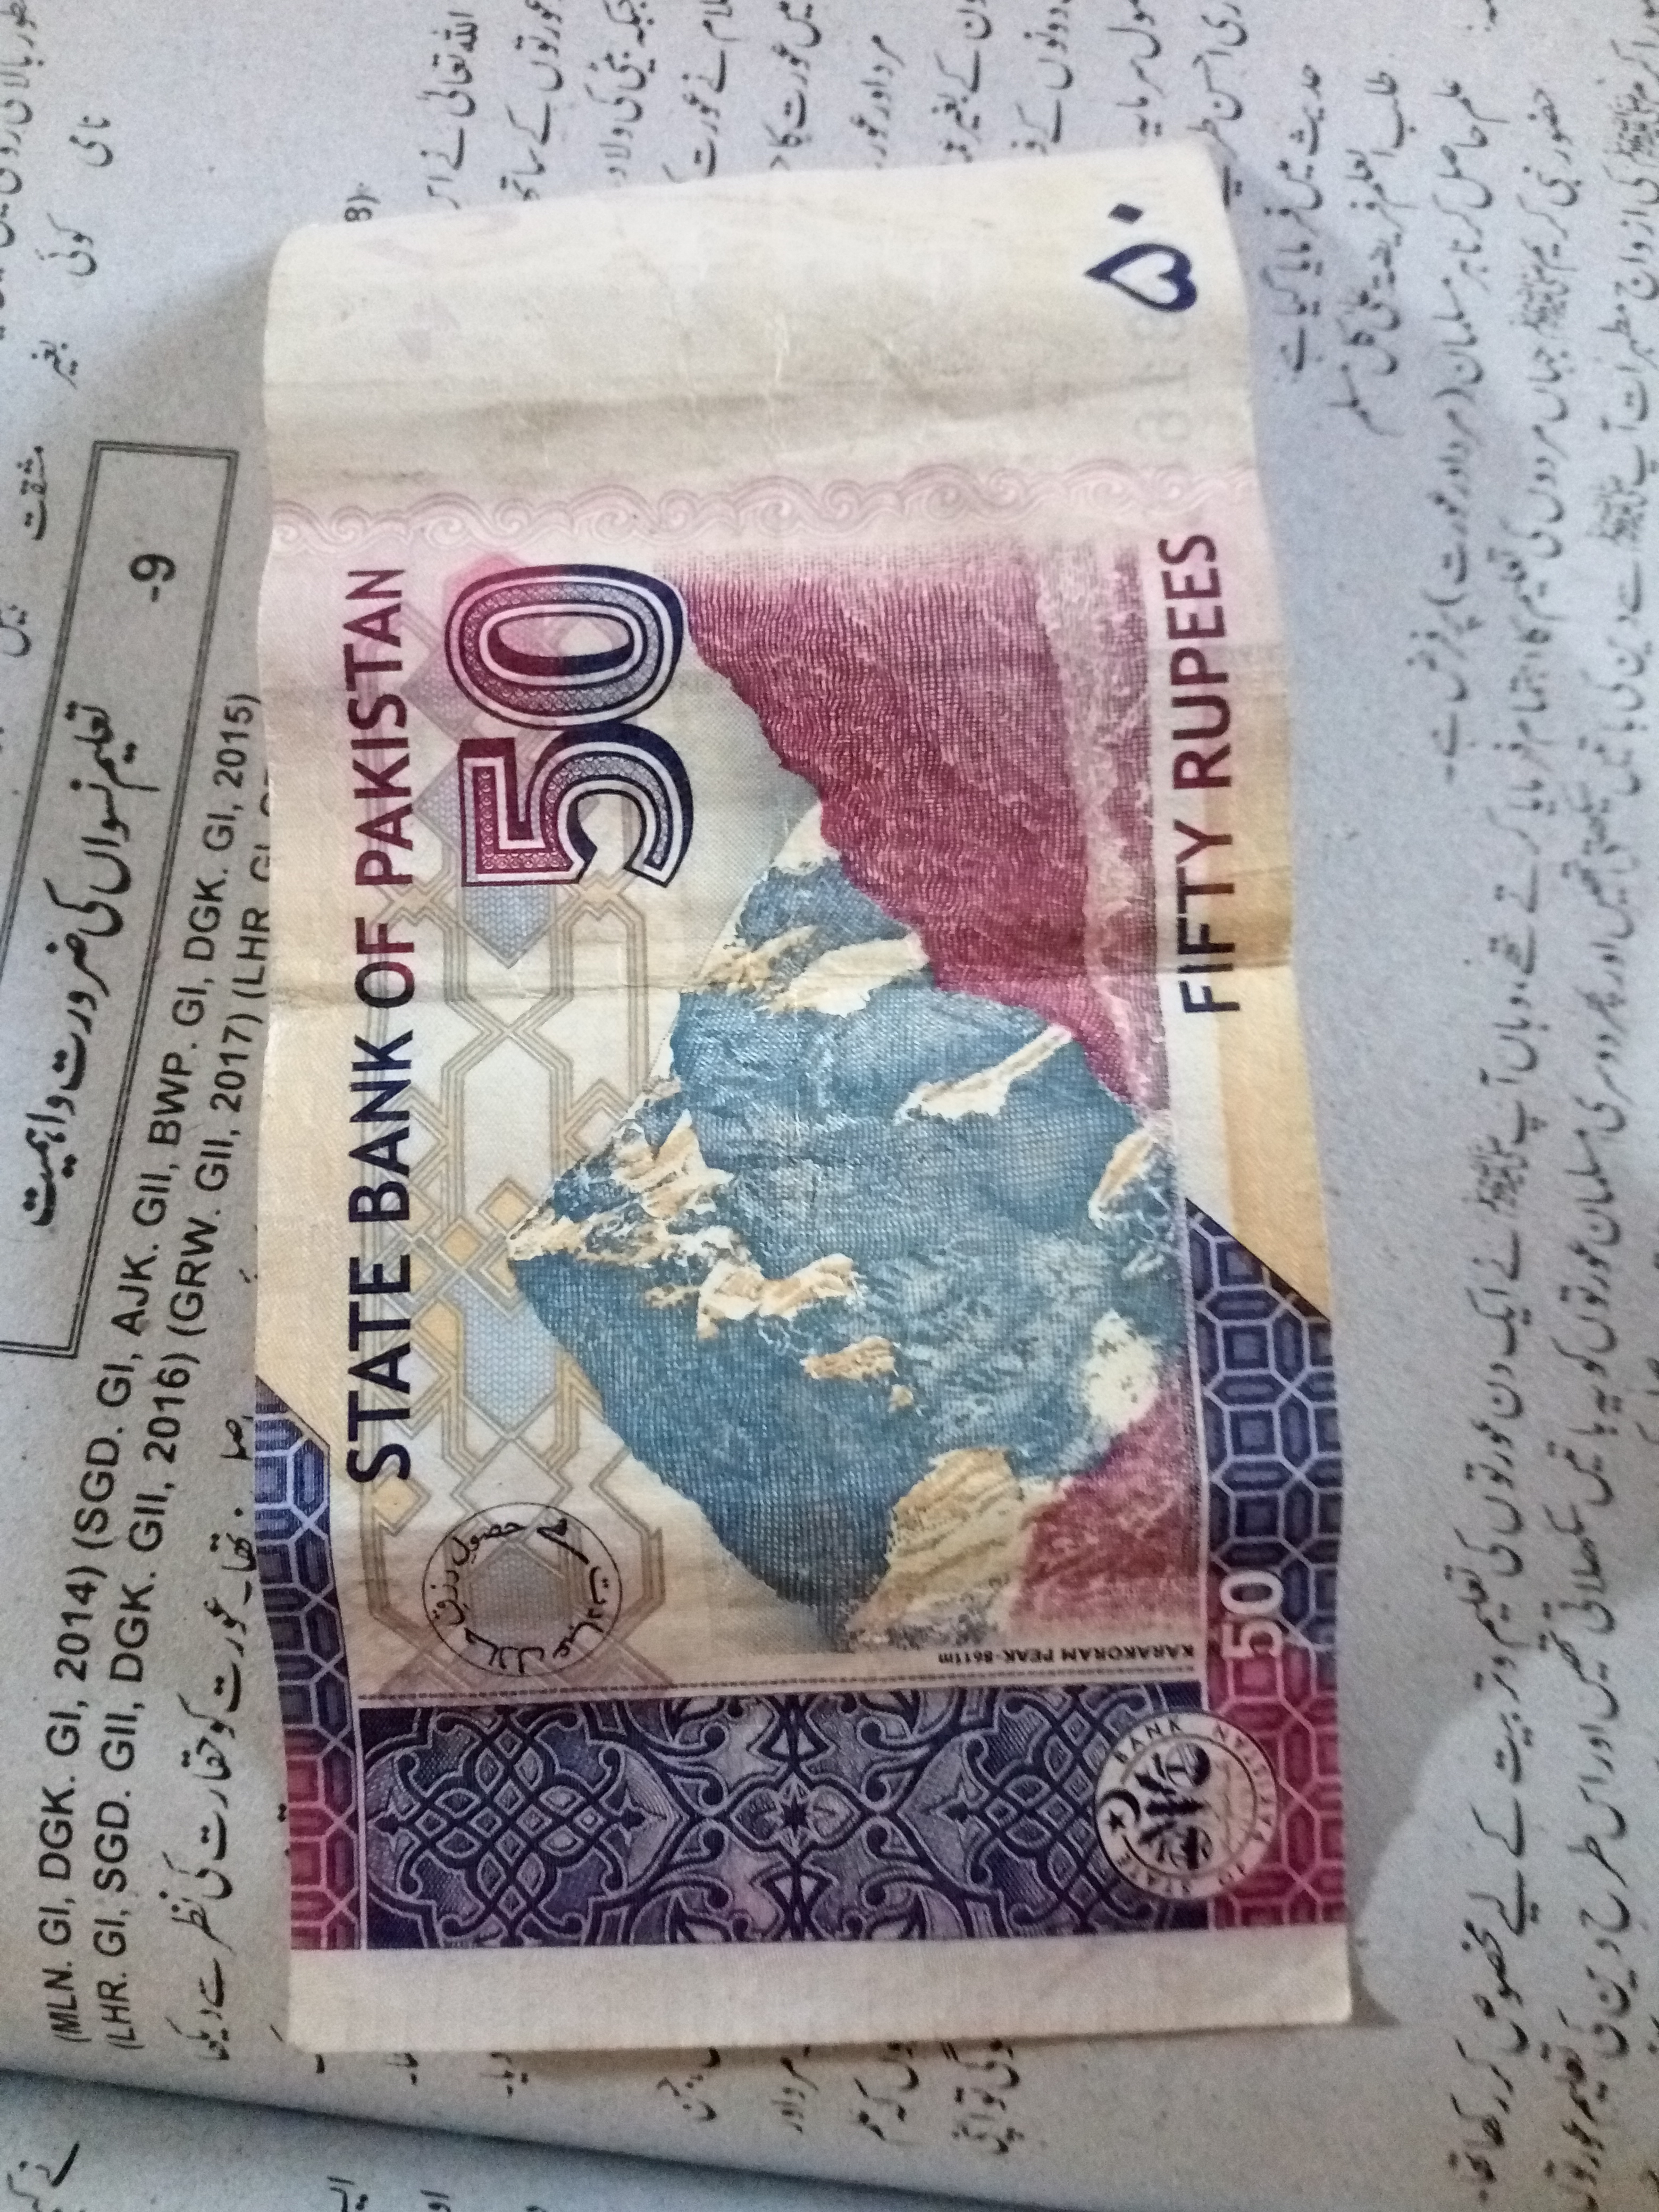50 rupee: (242, 132, 1342, 2062)
